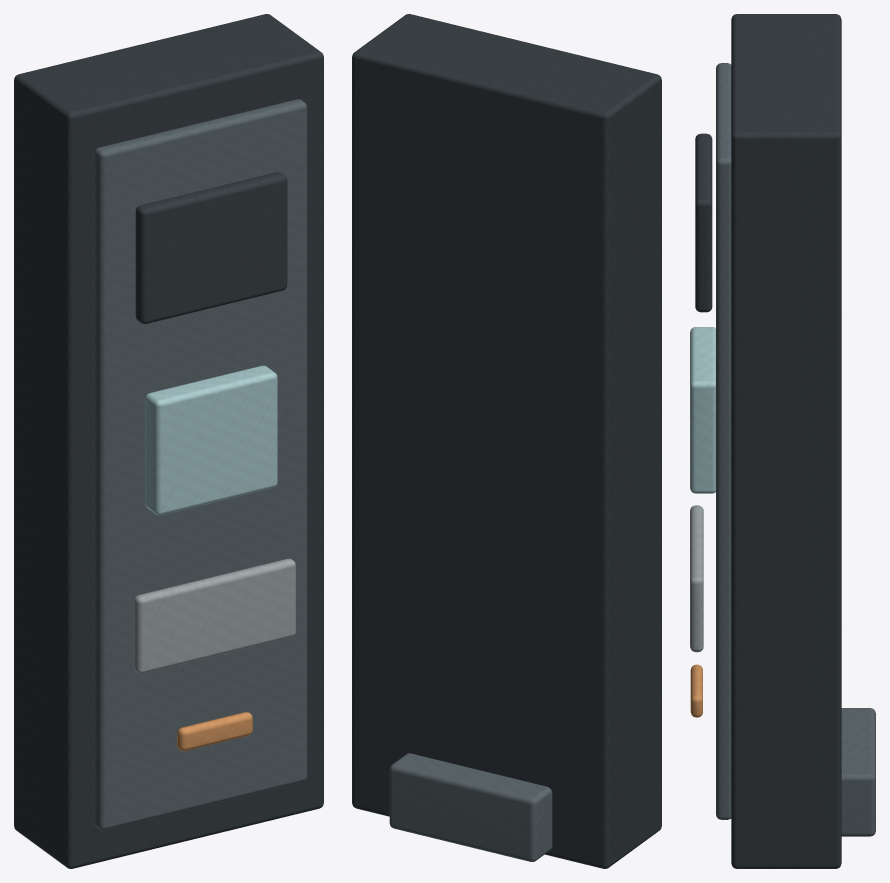
Rendered from BiometricKeypad.fbx.
The picture shows the model from 3 angles, left to right: view 1: azimuth 30°, elevation 25°; view 2: azimuth 150°, elevation 25°; view 3: azimuth 270°, elevation 25°; orthographic projection. The views are drawn at different scales.
Visible parts, largest first — view 1: BiometricKeypad_Mesh; view 2: BiometricKeypad_Mesh; view 3: BiometricKeypad_Mesh.
Boxes of the visible parts, <box> form: BiometricKeypad_Mesh: <box>14,14,323,868</box>; BiometricKeypad_Mesh: <box>352,14,661,868</box>; BiometricKeypad_Mesh: <box>690,14,875,868</box>.
Bounding box in the file's own units: 42 × 118 × 27.
Materials: 5 (5 with a texture image).
